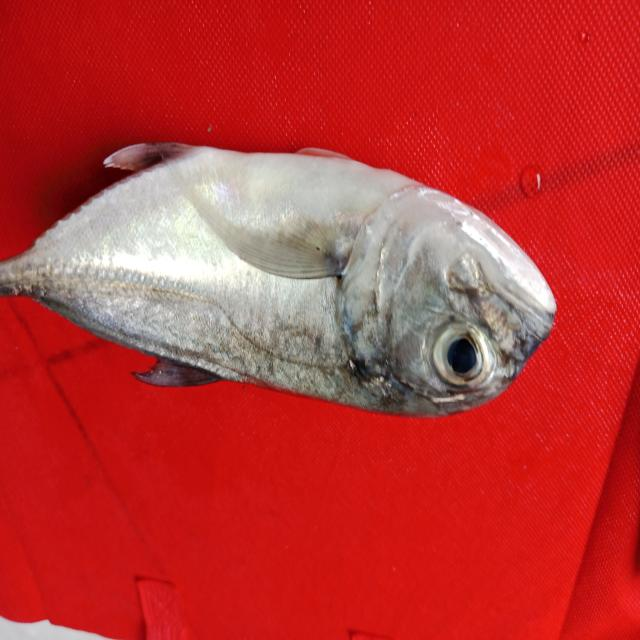ikan: (9, 98, 576, 454)
